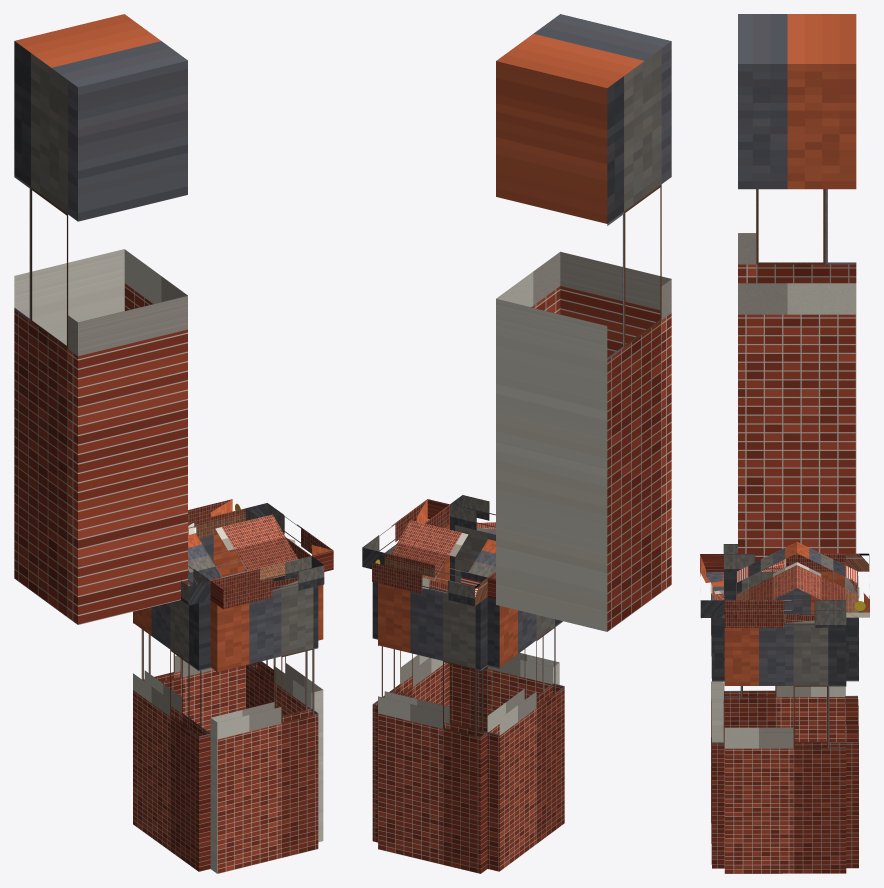
3 renders of one model, left to right at view 1: azimuth 30°, elevation 25°; view 2: azimuth 150°, elevation 25°; view 3: azimuth 270°, elevation 25°, orthographic. The views are drawn at different scales.
Parts seen in each view (by area): view 1: 1106964397__chimney_0_xb, 1106964397__wall_2_xb, 1106964397__wall_3_xb, 1106964397__wall_0_xb, 1106964397__wall_1_xb, 1106964397_roof_-1_xb, 1106964397__cornice_2, 1106964397__cornice_1, 1106964397__cornice_0, 1106964397__cornice_3; view 2: 1106964397__chimney_0_xb, 1106964397__wall_0_xb, 1106964397__wall_3_xb, 1106964397__wall_2_xb, 1106964397__wall_1_xb, 1106964397_roof_1_xb, 1106964397__cornice_0, 1106964397__cornice_1, 1106964397__cornice_2; view 3: 1106964397__chimney_0_xb, 1106964397__wall_1_xb, 1106964397__wall_3_xb, 1106964397__wall_2_xb, 1106964397__wall_0_xb, 1106964397__cornice_1, 1106964397_roof_1_xb, 1106964397_roof_-1_xb, 1106964397__cornice_3, 1106964397__cornice_2, 1106964397__cornice_0.
Part boxes in pixels (x1,y1,x2,y2): 1106964397__chimney_0_xb: (14,14,187,624); 1106964397__wall_2_xb: (210,580,318,873); 1106964397__wall_3_xb: (133,584,210,871); 1106964397__wall_0_xb: (141,534,245,733); 1106964397__wall_1_xb: (245,569,323,842); 1106964397_roof_-1_xb: (188,514,298,583); 1106964397__cornice_2: (210,556,324,609); 1106964397__cornice_1: (245,503,333,571); 1106964397__cornice_0: (188,499,245,538); 1106964397__cornice_3: (181,566,210,605); 1106964397__chimney_0_xb: (496,14,671,631); 1106964397__wall_0_xb: (378,583,487,873); 1106964397__wall_3_xb: (487,597,564,871); 1106964397__wall_2_xb: (450,524,559,731); 1106964397__wall_1_xb: (372,524,449,842); 1106964397_roof_1_xb: (391,520,495,597); 1106964397__cornice_0: (372,553,487,606); 1106964397__cornice_1: (362,499,449,569); 1106964397__cornice_2: (450,495,495,531); 1106964397__chimney_0_xb: (738,14,856,561); 1106964397__wall_1_xb: (724,620,846,873); 1106964397__wall_3_xb: (724,571,845,741); 1106964397__wall_2_xb: (711,572,724,868); 1106964397__wall_0_xb: (845,572,858,868); 1106964397__cornice_1: (724,600,846,627); 1106964397_roof_1_xb: (797,542,858,617); 1106964397_roof_-1_xb: (736,542,796,601); 1106964397__cornice_3: (723,544,845,571); 1106964397__cornice_2: (700,554,724,618); 1106964397__cornice_0: (845,553,869,617).
Size of the model in its own units: 0.3385 by 1.05 by 0.215.
Materials: 1 (1 with a texture image).
